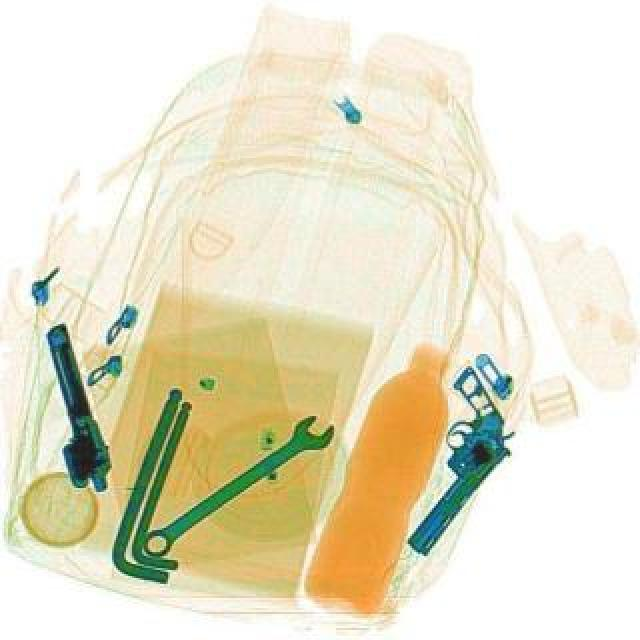gun: (350, 366, 540, 558), (24, 320, 118, 500)
scissors: (132, 408, 340, 568)
